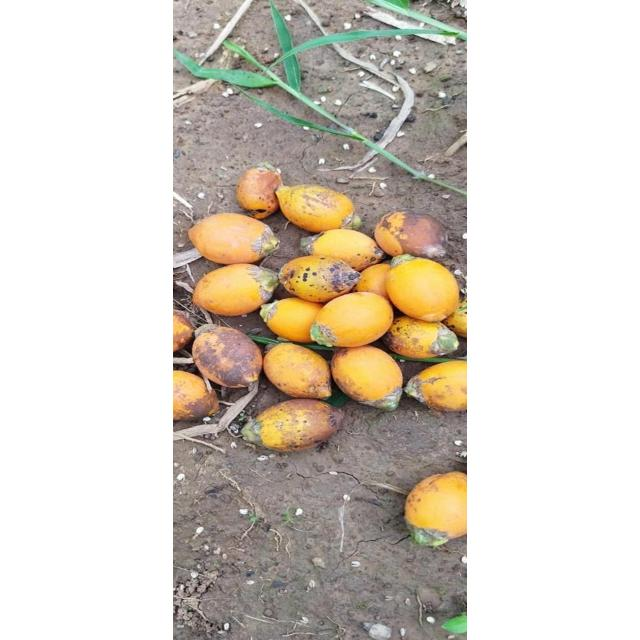good: (242, 399, 338, 456), (384, 258, 461, 323), (310, 293, 394, 350), (192, 326, 260, 396), (188, 214, 278, 266), (332, 346, 402, 408), (276, 184, 354, 236), (264, 342, 332, 401), (278, 255, 362, 302), (375, 212, 448, 264), (193, 266, 262, 320), (382, 316, 459, 358), (312, 229, 384, 272), (262, 296, 323, 346), (415, 358, 466, 416), (236, 165, 282, 222), (173, 370, 218, 423), (173, 312, 194, 354)
